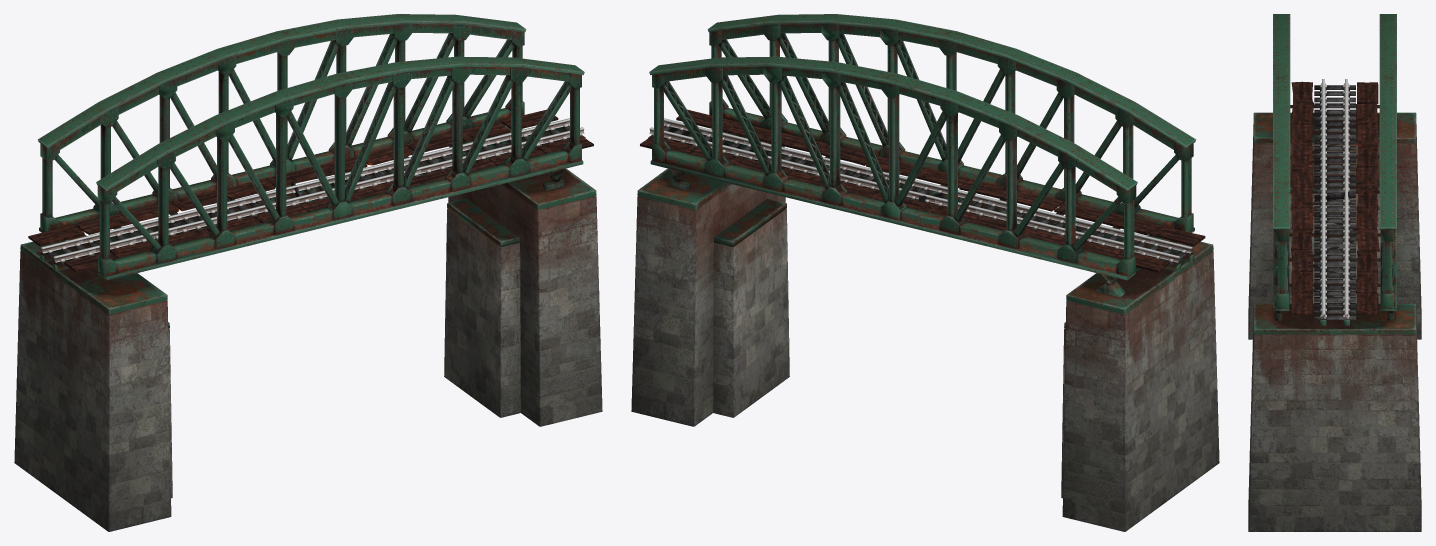
3 renders of one model, left to right at view 1: azimuth 30°, elevation 25°; view 2: azimuth 150°, elevation 25°; view 3: azimuth 270°, elevation 25°, orthographic. The views are drawn at different scales.
Parts seen in each view (by area): view 1: mesh_0, mesh_0_2, mesh_0_1, mesh_0_3; view 2: mesh_0, mesh_0_2, mesh_0_1, mesh_0_3; view 3: mesh_0, mesh_0_1, mesh_0_2, mesh_0_3.
Boxes of the visible parts, x1=… form: mesh_0: x1=14, y1=14, x2=602, y2=531; mesh_0_2: x1=28, y1=109, x2=593, y2=272; mesh_0_1: x1=47, y1=21, x2=596, y2=328; mesh_0_3: x1=64, y1=130, x2=569, y2=267; mesh_0: x1=631, y1=14, x2=1219, y2=531; mesh_0_2: x1=640, y1=109, x2=1205, y2=272; mesh_0_1: x1=637, y1=25, x2=1213, y2=425; mesh_0_3: x1=677, y1=118, x2=1198, y2=249; mesh_0: x1=1248, y1=14, x2=1421, y2=531; mesh_0_1: x1=1249, y1=75, x2=1420, y2=531; mesh_0_2: x1=1290, y1=81, x2=1379, y2=315; mesh_0_3: x1=1291, y1=102, x2=1377, y2=315.
Bounding box in the file's own units: 17.98 × 12.36 × 5.58.
1 material, 1 textured.
